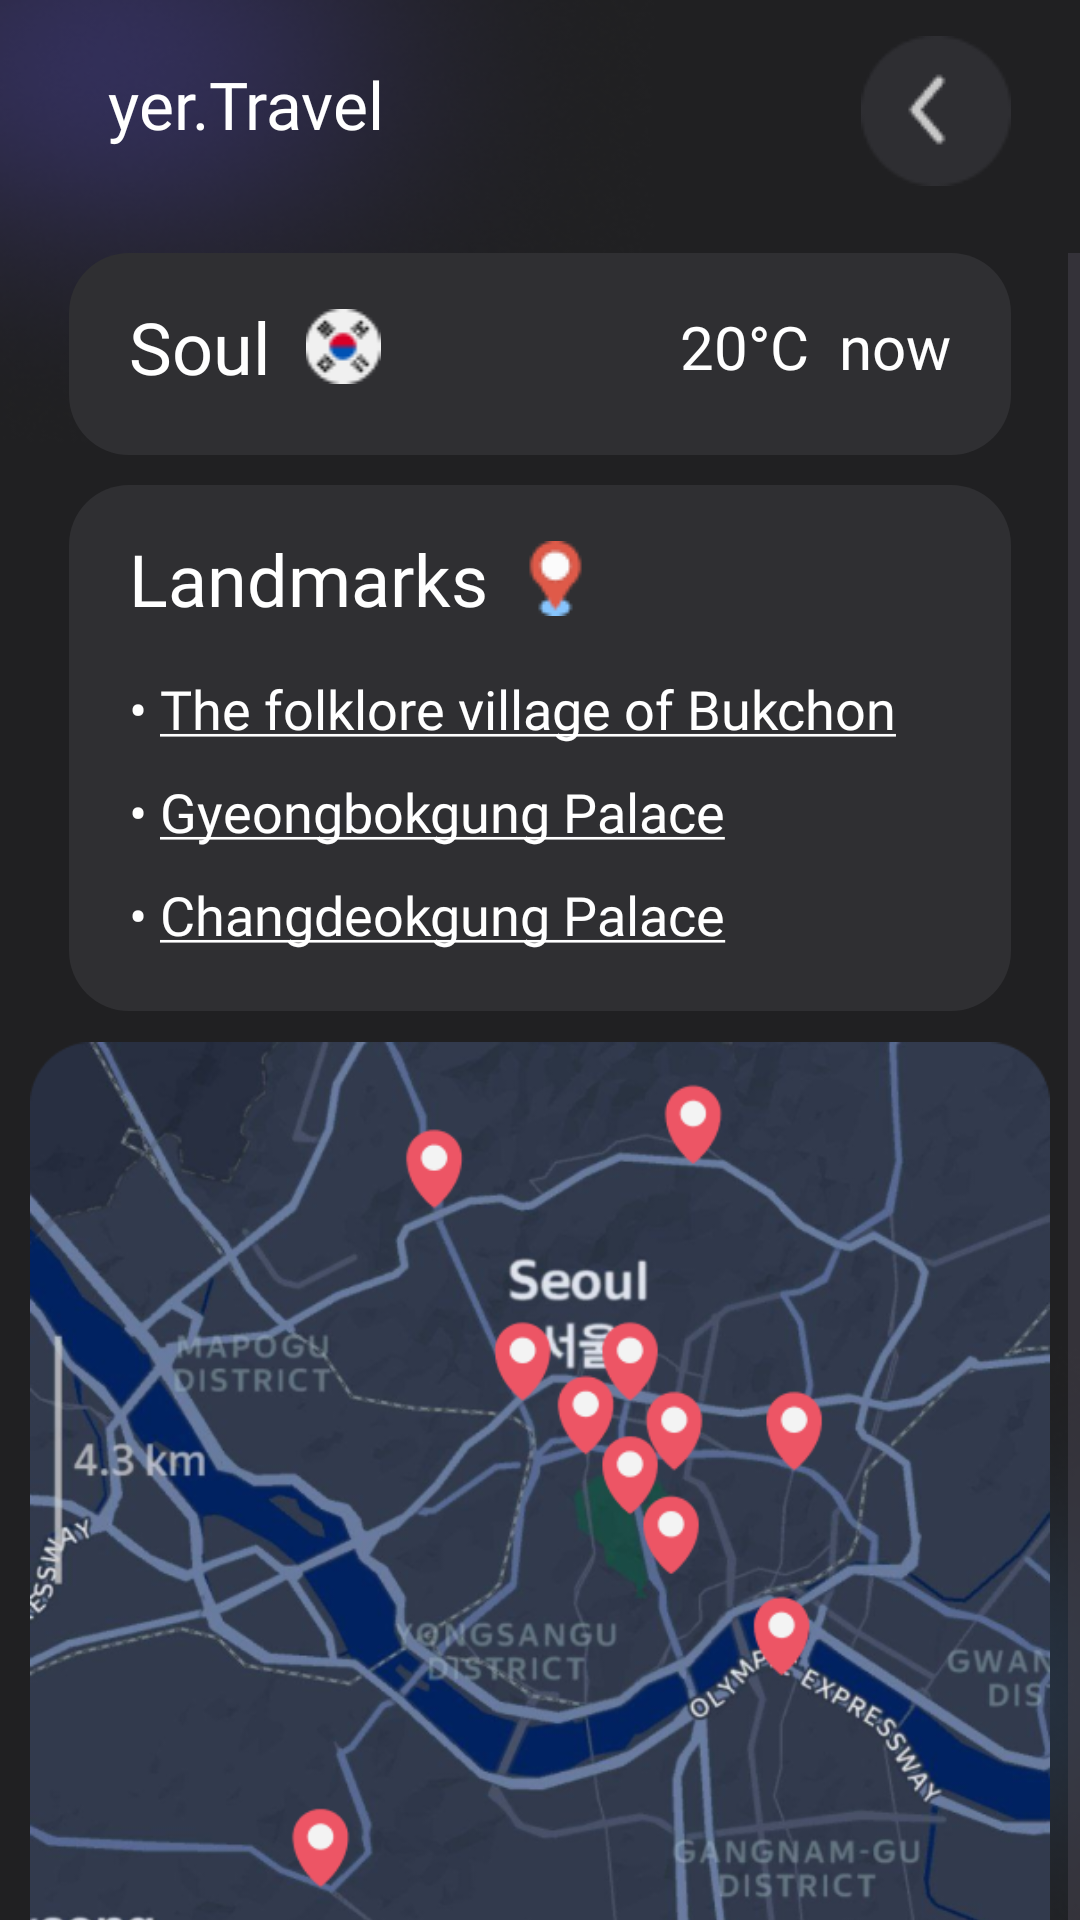

Named icons in this screenshot (1080*1920) and their centers, point (x, y):
Go back: point (936, 111)
korea: point (343, 346)
